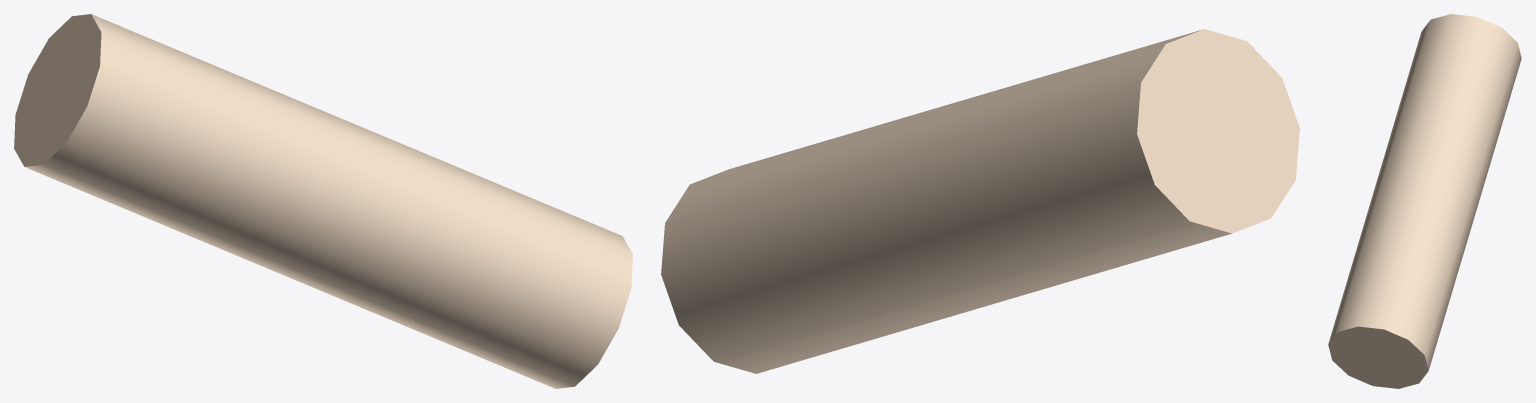
File: mars_descent_stage.bridle_02.glb
The picture shows the model from 3 angles, left to right: view 1: azimuth 30°, elevation 25°; view 2: azimuth 150°, elevation 25°; view 3: azimuth 270°, elevation 25°; orthographic projection. The views are drawn at different scales.
Visible parts, largest first — view 1: mars_descent_stage.bridle_02.mesh_Parachute_canopy_fabric; view 2: mars_descent_stage.bridle_02.mesh_Parachute_canopy_fabric; view 3: mars_descent_stage.bridle_02.mesh_Parachute_canopy_fabric.
Boxes of the visible parts, <box> form: mars_descent_stage.bridle_02.mesh_Parachute_canopy_fabric: <box>14,14,632,388</box>; mars_descent_stage.bridle_02.mesh_Parachute_canopy_fabric: <box>661,29,1299,373</box>; mars_descent_stage.bridle_02.mesh_Parachute_canopy_fabric: <box>1328,14,1521,388</box>.
Bounding box in the file's own units: 0.1401 × 0.1021 × 0.0707.
